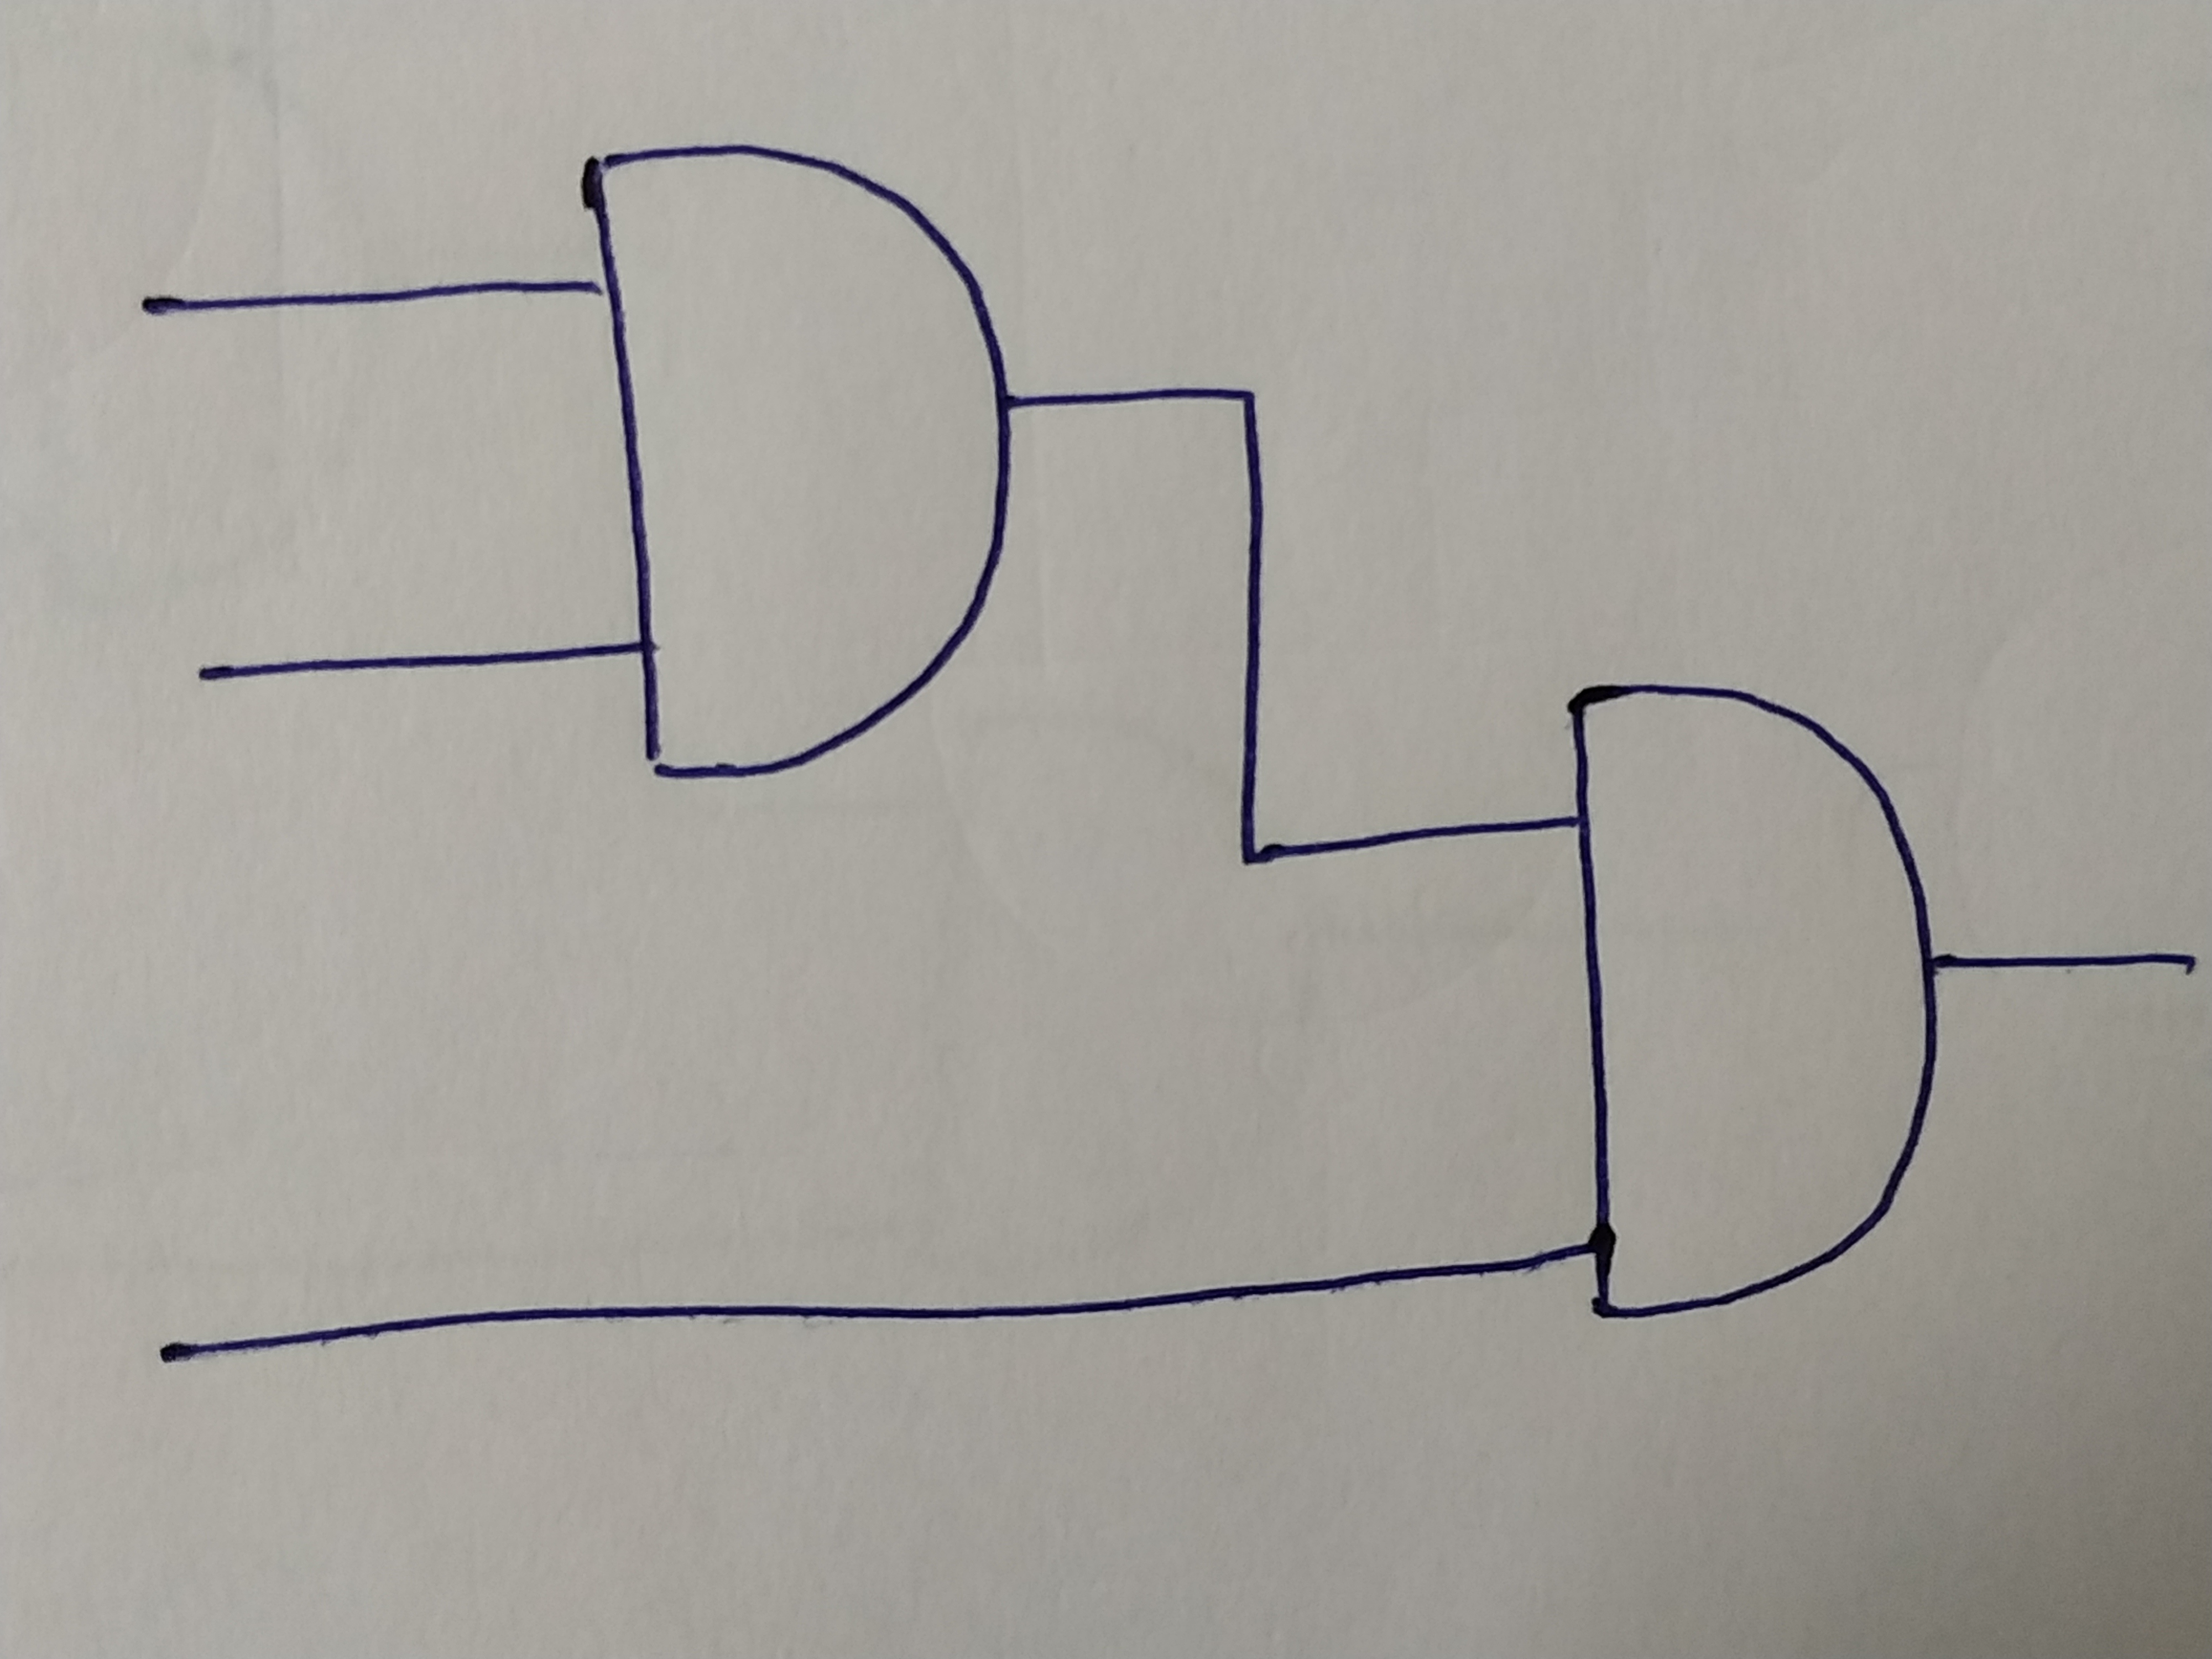and: (585, 143, 1014, 784), (1569, 681, 1942, 1309)
